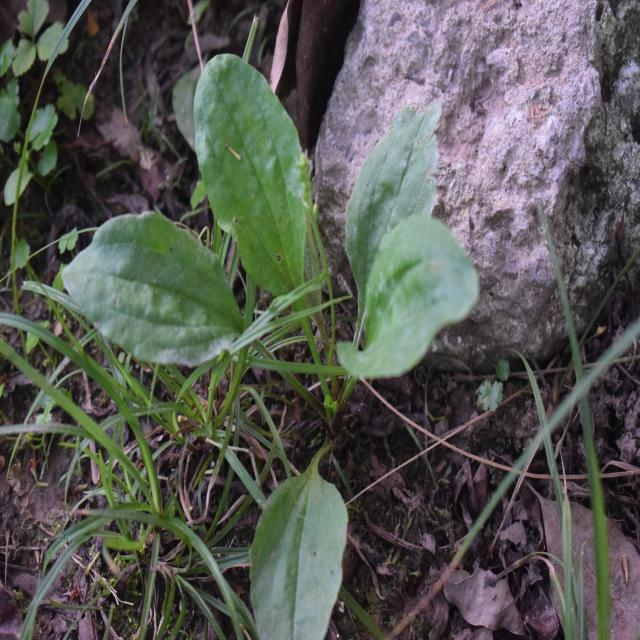plantain: (77, 67, 448, 586)
